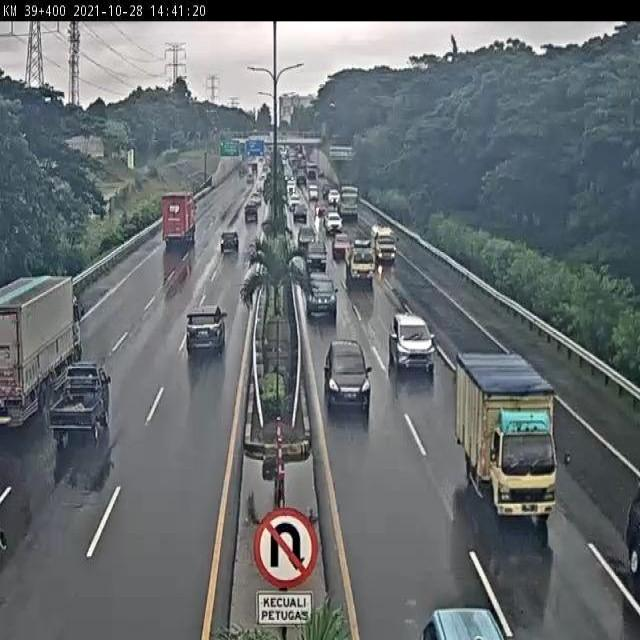car: (48, 364, 113, 445), (322, 340, 370, 416), (388, 313, 435, 376), (185, 305, 226, 356), (305, 272, 337, 323), (303, 241, 327, 272)
mid truck: (0, 274, 85, 426)
truck-m-: (454, 351, 559, 517), (343, 237, 373, 283)
